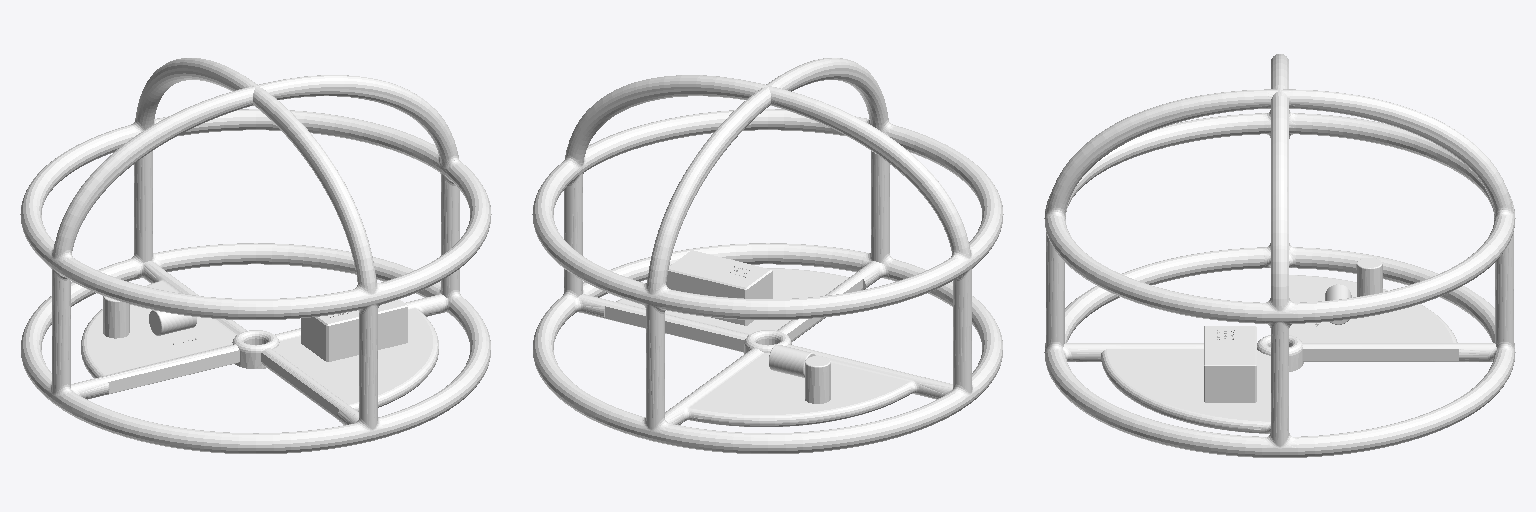
The robot description file, URDF, robot "dome":
<?xml version="0.0" ?>
<robot name="dome">
  <link name="baseLink">
    <contact>
      <lateral_friction value="1.0"/>
      <rolling_friction value="0.0"/>
      <contact_cfm value="0.0"/>
      <contact_erp value="1.0"/>
    </contact>
    <inertial>
      <origin rpy="0 0 0" xyz="0 0 0"/>
       <mass value="1.0"/>
       <inertia ixx="1" ixy="0" ixz="0" iyy="1" iyz="0" izz="1"/>
    </inertial>
    <visual>
      <origin rpy="0 0 0" xyz="0 0 0"/>
      <geometry>
				<mesh filename="dome_small.obj" scale="0.1 0.1 0.1"/>
      </geometry>
       <material name="white">
        <color rgba="1 1 1 1"/>
      </material>
    </visual>
    <collision>
      <origin rpy="0 0 0" xyz="0 0 0"/>
      <geometry>
	 	<box size="1 1 1"/>
      </geometry>
    </collision>
  </link>
</robot>

--- What the picture shows (computed from the rendered views, not written in the file) ---
Views: 3 orthographic renders of the robot side by side, from view 1: azimuth 30°, elevation 25°; view 2: azimuth 150°, elevation 25°; view 3: azimuth 270°, elevation 25°.
Robot: dome — 1 links, 0 joints (none); root link baseLink; default pose: every joint at zero.
Visible links, largest first — view 1: baseLink; view 2: baseLink; view 3: baseLink.
Link boxes in pixels (bbox=[...]): baseLink: bbox=[20, 58, 491, 453]; baseLink: bbox=[532, 58, 1003, 453]; baseLink: bbox=[1044, 54, 1515, 457].
Bounding box of the posed robot: 0.796 × 0.796 × 0.5091 m (x, y, z).
Meshes: 1 distinct files referenced, 1 mesh visuals loaded (1 OBJ).